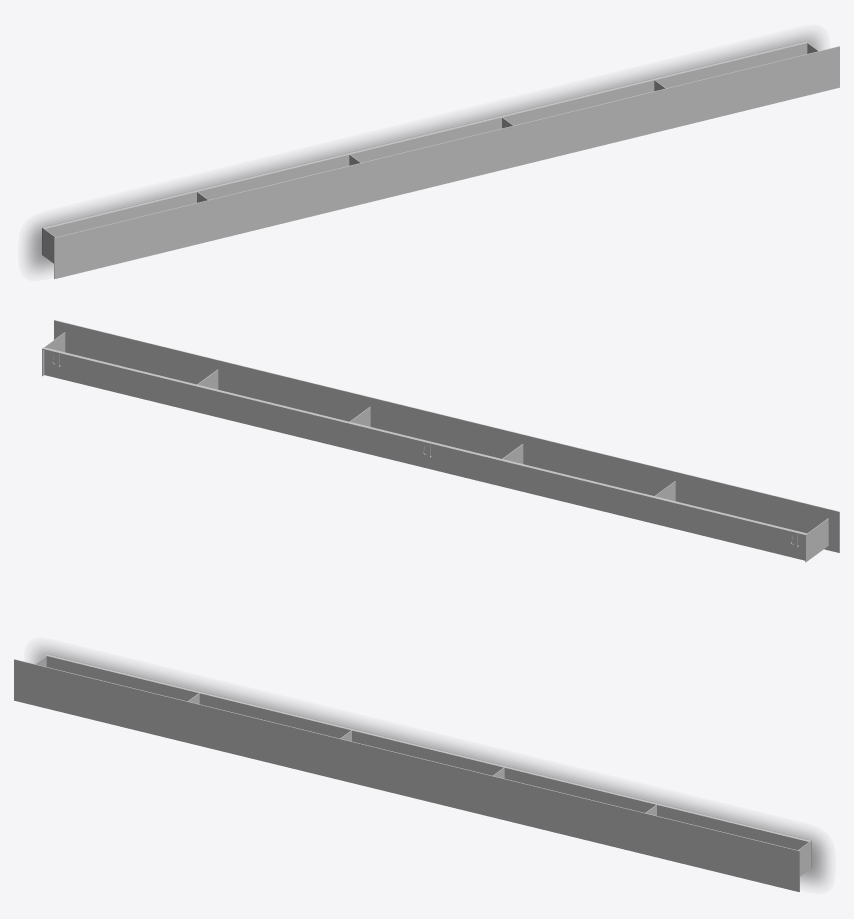
The model's file is skyline-mono.dd01151d84.ar.glb.
The picture shows the model from 3 angles, top to bottom: view 1: azimuth 30°, elevation 25°; view 2: azimuth 150°, elevation 25°; view 3: azimuth 330°, elevation 25°; orthographic projection.
Visible parts, largest first — view 1: NAUO1, object 2; view 2: NAUO1; view 3: NAUO1, object 2.
Part boxes in pixels (x1,y1,x2,y2): NAUO1: [42, 41, 839, 278]; object 2: [26, 34, 821, 271]; NAUO1: [42, 320, 839, 562]; NAUO1: [14, 654, 811, 891]; object 2: [32, 647, 827, 884].
Size of the model in its own units: 1.88 by 0.17 by 0.092.
2 materials, 1 textured.
